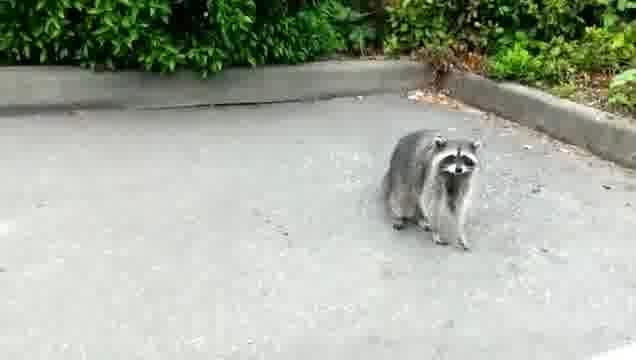raccoon: (385, 127, 483, 255)
